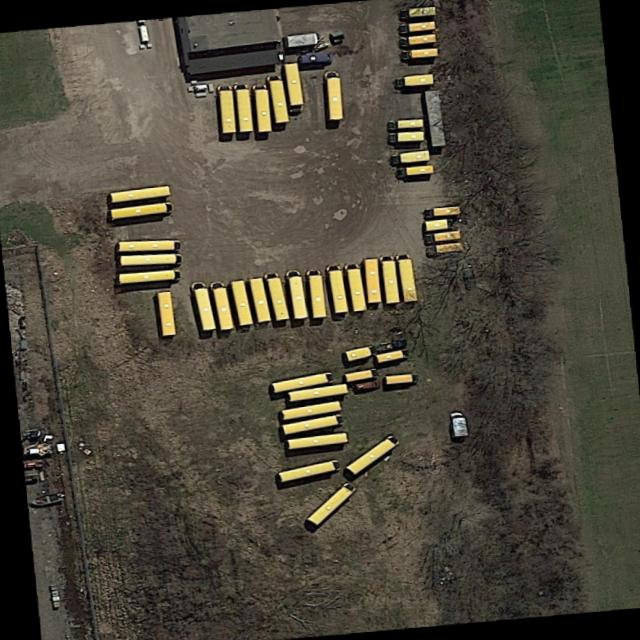large-vehicle: (346, 434, 401, 474), (308, 482, 357, 525), (278, 458, 339, 483), (280, 412, 345, 434), (271, 371, 333, 392), (280, 400, 342, 420), (287, 430, 350, 449), (192, 282, 216, 331), (267, 74, 291, 122), (265, 272, 289, 320), (286, 270, 309, 319), (210, 282, 233, 330), (110, 201, 174, 218), (229, 279, 252, 326), (289, 383, 349, 401), (110, 185, 171, 202), (326, 265, 347, 314), (117, 268, 181, 284), (345, 263, 366, 311), (250, 276, 271, 322), (284, 62, 304, 110), (397, 253, 417, 300), (325, 71, 344, 119), (234, 84, 253, 131), (157, 290, 176, 335), (253, 82, 270, 132), (381, 256, 399, 302), (308, 271, 326, 316), (364, 258, 382, 301), (219, 86, 235, 131), (425, 241, 468, 257), (120, 253, 182, 264), (118, 239, 180, 250), (422, 203, 464, 218), (395, 72, 434, 86), (424, 230, 462, 243), (344, 367, 379, 381), (450, 410, 468, 437), (398, 34, 438, 46), (401, 46, 437, 59), (377, 348, 410, 362), (425, 218, 459, 231), (391, 151, 431, 162), (400, 21, 438, 32), (397, 164, 434, 175), (385, 373, 418, 384), (401, 6, 435, 16), (353, 378, 381, 390), (390, 118, 423, 128), (389, 131, 424, 140)
ship: (28, 490, 66, 506)
